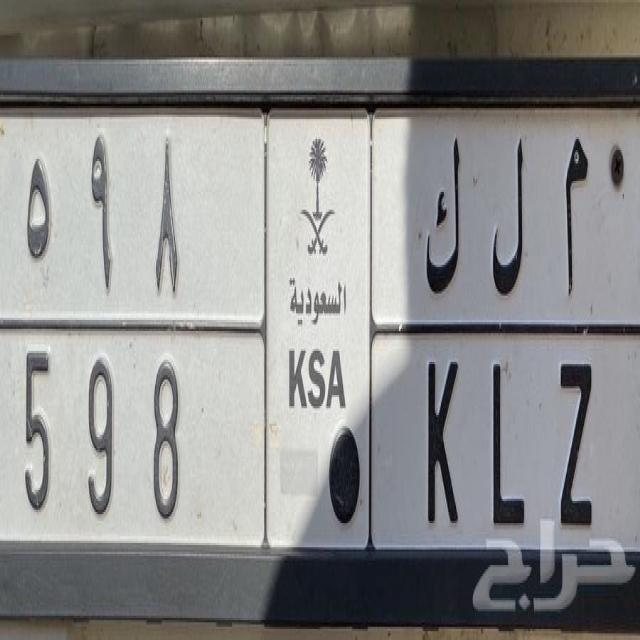license_plate: (1, 315, 634, 556)
